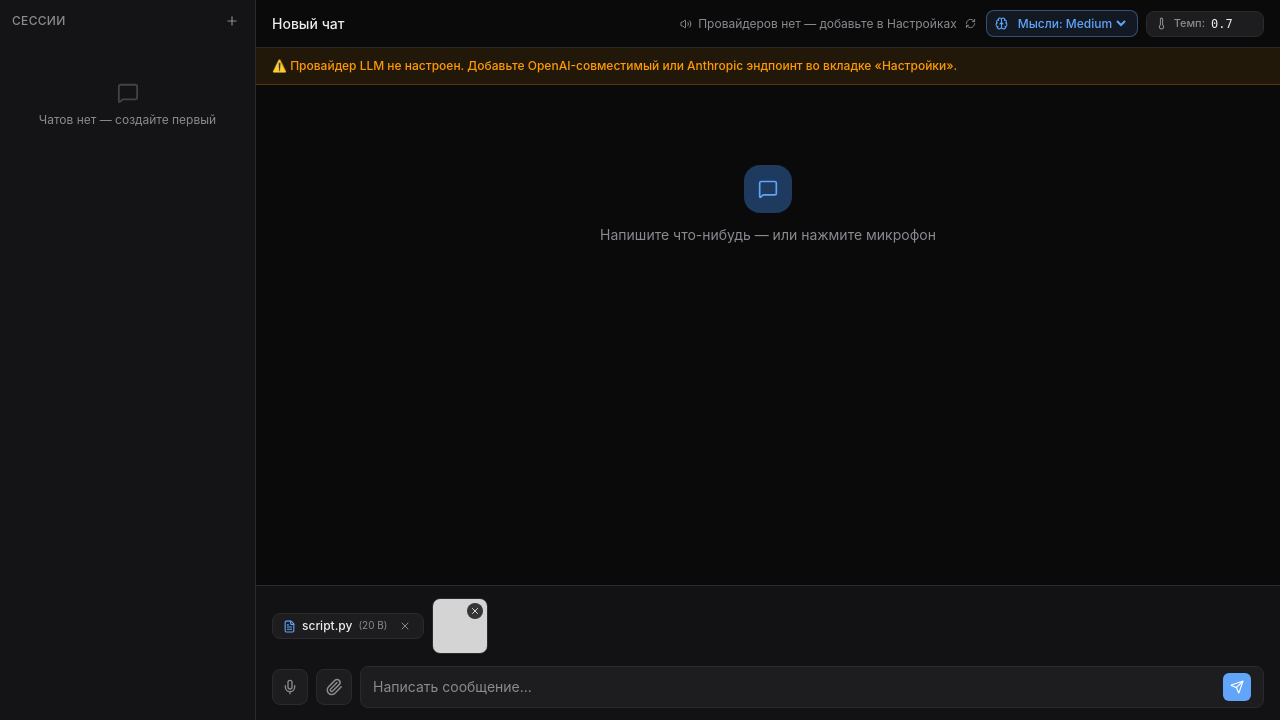
Test: ChatTab Attachments and Drag & Drop › encodes images to base64 and formats text files as markdown code blocks on send
Earlier steps of the test are not shown.
Expected: the text "script.py" is shown, [302,618,352,634]
What coordinates should you click on to do the following:
click the button titled "Отправить"
I would click on:
 (1237, 687)
Its box is [1223,673,1251,701].
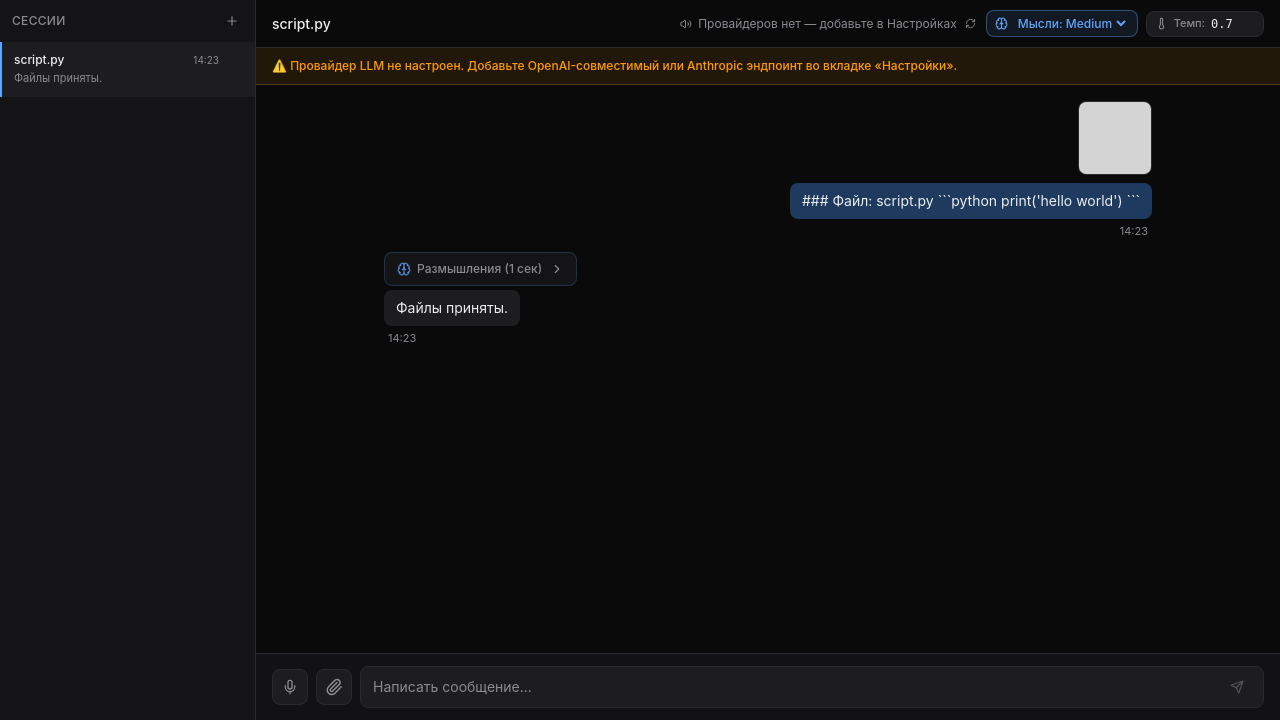
Now the element with test id "attachments-preview" is gone
